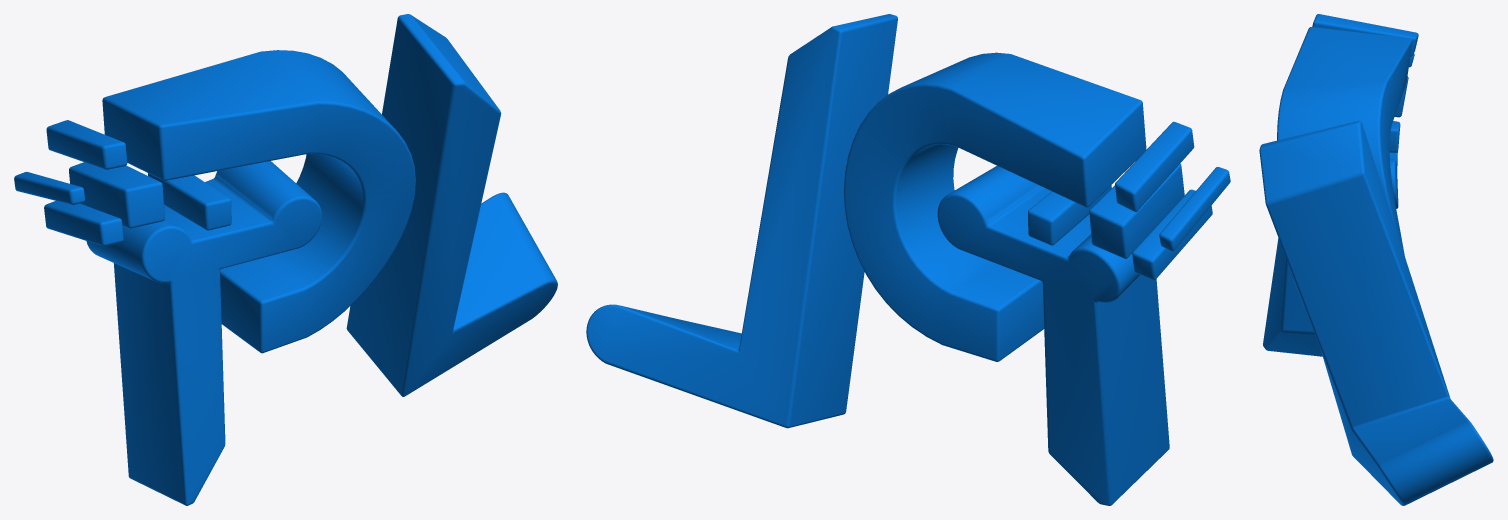
The model's file is modelo_3d.glb.
The picture shows the model from 3 angles, left to right: view 1: azimuth 30°, elevation 25°; view 2: azimuth 150°, elevation 25°; view 3: azimuth 270°, elevation 25°; orthographic projection. The views are drawn at different scales.
Parts seen in each view (by area): view 1: PL; view 2: PL; view 3: PL.
Boxes of the visible parts, x1,y1,x2,y2 form: PL: [14, 14, 557, 505]; PL: [586, 14, 1230, 505]; PL: [1259, 14, 1493, 505].
Bounding box in the file's own units: 6.59 × 4.72 × 2.83.
